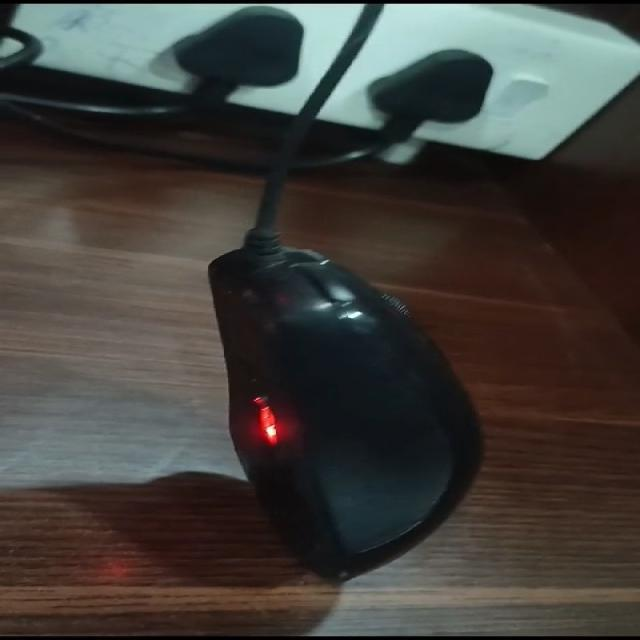Mouse: (152, 181, 574, 600)
